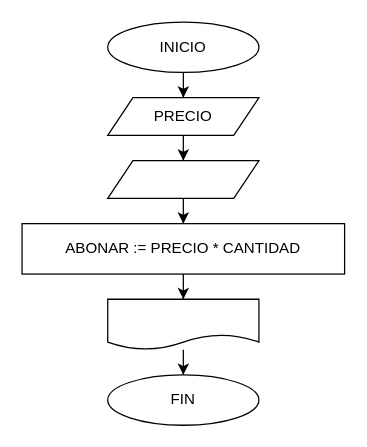
This 367x447 diagram has some shape labels left out. Each missing label, with the box of its shape:
ABONAR: (106, 298, 259, 350)
CANTIDAD: (106, 159, 259, 198)
